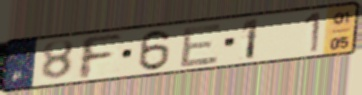1: (240, 16, 261, 63), (302, 10, 323, 55)
6: (135, 28, 174, 72)
8: (38, 39, 77, 83)
E: (177, 21, 225, 69)
F: (78, 33, 125, 82)
